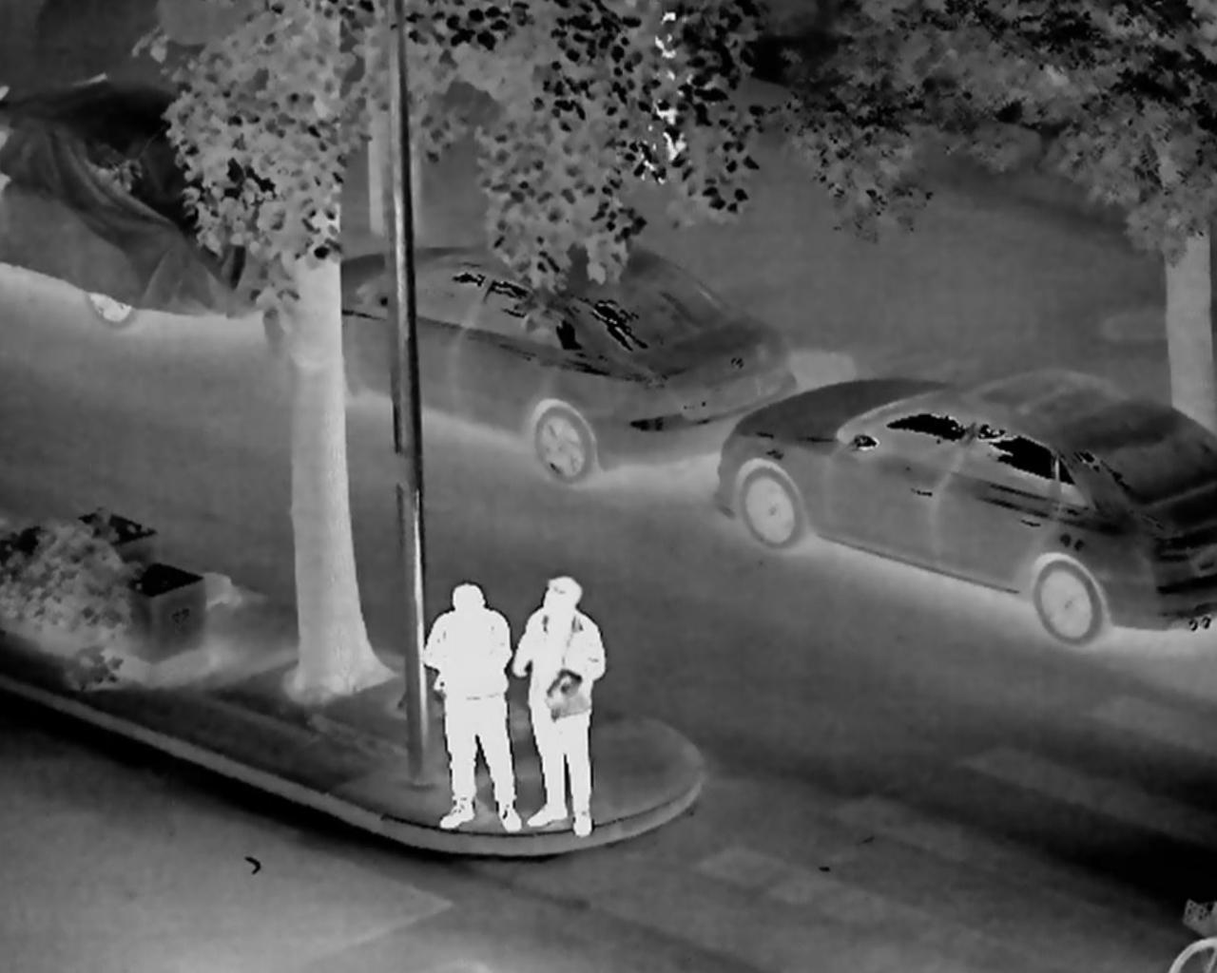person: (495, 570, 628, 850), (415, 571, 524, 842), (643, 7, 709, 187)
